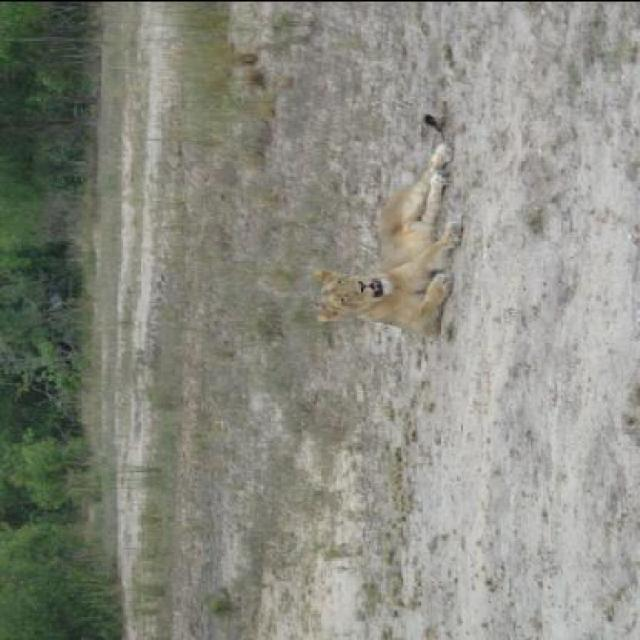Lion: (303, 102, 482, 343)
